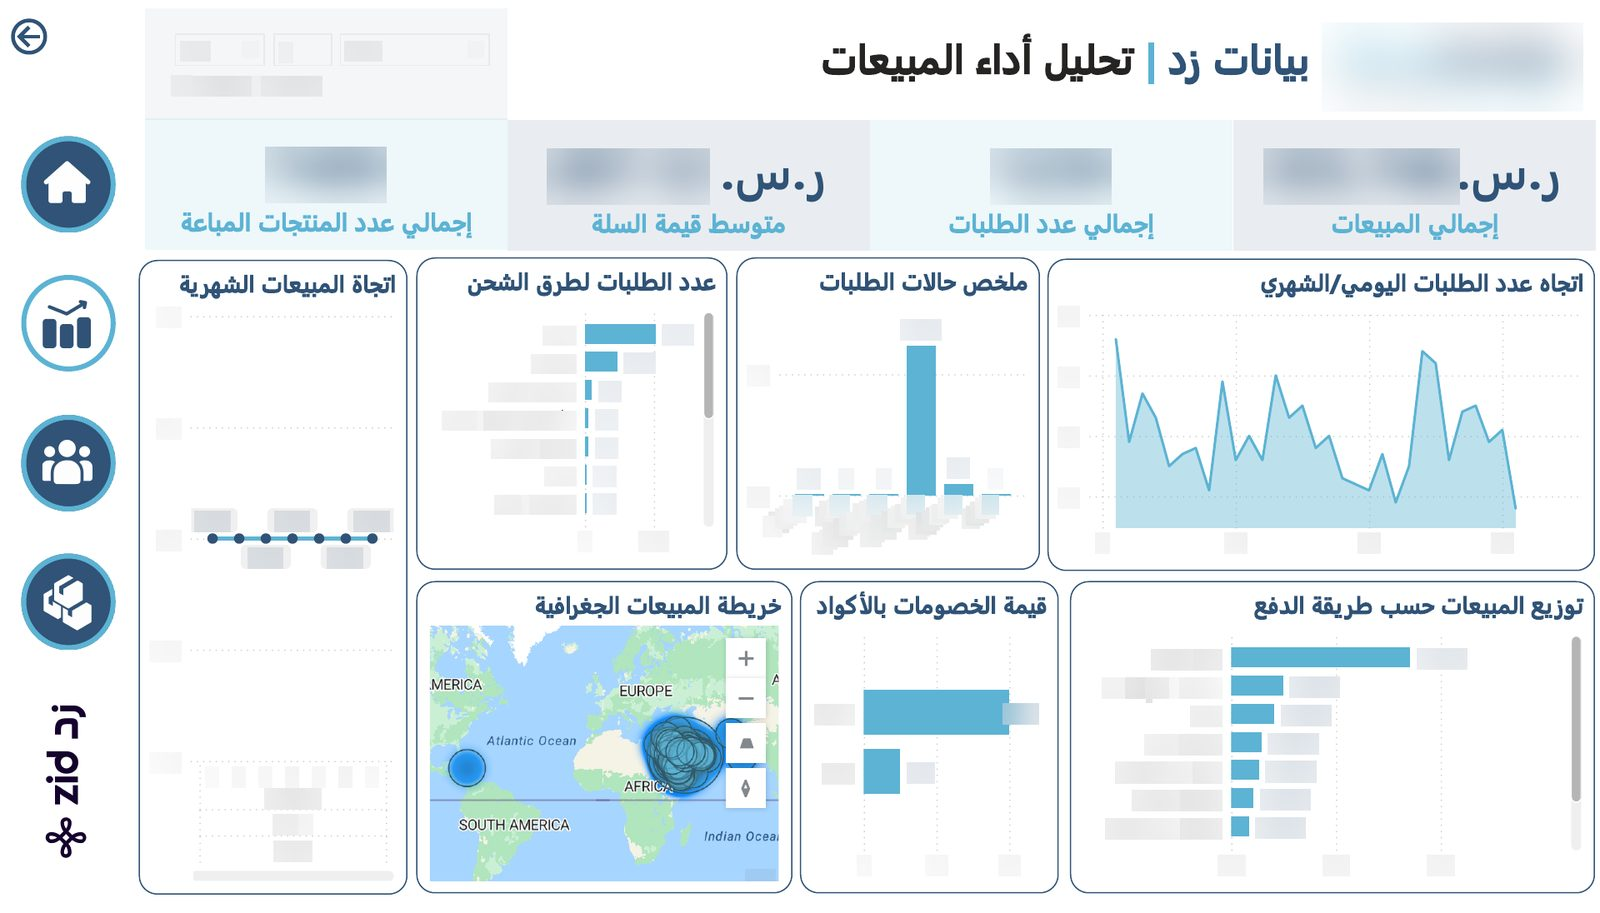

Layout of this report page (visuals, bound fields, positions):
{"tool":"powerbi","page":{"name":"بيانات زد | تحليل أداء المبيعات","canvas":[1280,720],"ordinal":5},"visuals":[{"type":"image","box":[1055,9,214,80],"z":0},{"type":"textbox","box":[640,14,413,64],"z":1000},{"type":"card","fields":{"Values":["zid_fact_orders.Zid Total Revenue"]},"box":[986.5,91.2,290.2,105.4],"z":2000},{"type":"card","fields":{"Values":["zid_fact_orders.Zid Total Orders"]},"box":[696.4,91.2,290.2,105.4],"z":3000},{"type":"card","fields":{"Values":["zid_fact_orders.Zid AOV"]},"box":[406.2,91.2,290.2,105.4],"z":4000},{"type":"areaChart","title":"اتجاه عدد الطلبات اليومي/الشهري","fields":{"Y":["zid_fact_orders.Zid Total Orders"],"Category":["zid_fact_orders.created_at.Variation.Date Hierarchy.Year","zid_fact_orders.created_at.Variation.Date Hierarchy.Quarter","zid_fact_orders.created_at.Variation.Date Hierarchy.Month","zid_fact_orders.created_at.Variation.Date Hierarchy.Day"]},"box":[838.2,201.8,438.2,250],"z":5000},{"type":"clusteredBarChart","title":"توزيع المبيعات حسب طريقة الدفع","fields":{"Category":["zid_fact_orders.payment_method"],"Y":["zid_fact_orders.Zid Total Revenue"]},"box":[856,460,420,250],"z":6000},{"type":"azureMap","title":"خريطة المبيعات الجغرافية","fields":{"Category":["zid_fact_order_shipping.city"],"Size":["zid_fact_orders.Zid Total Revenue"]},"box":[332.7,460,300.9,250],"z":7000},{"type":"clusteredColumnChart","title":"ملخص حالات الطلبات","fields":{"Category":["zid_fact_orders.status"],"Y":["zid_fact_orders.Zid Total Orders"]},"box":[589,201,243,250],"z":8000},{"type":"barChart","title":"قيمة الخصومات بالأكواد","fields":{"Category":["zid_dim_coupons.code"],"Y":["Sum(zid_dim_coupons.discount_value)"]},"box":[640,460,207.3,250],"z":9000},{"type":"card","fields":{"Values":["zid_fact_order_items.Zid Total Units Sold"]},"box":[116.1,90,290.2,105.4],"z":10000},{"type":"lineChart","title":"اتجاة المبيعات الشهرية","fields":{"Y":["zid_fact_orders.Zid Total Revenue"],"Category":["zid_fact_orders.created_at.Variation.Date Hierarchy.Year","zid_fact_orders.created_at.Variation.Date Hierarchy.Quarter","zid_fact_orders.created_at.Variation.Date Hierarchy.Month","zid_fact_orders.created_at.Variation.Date Hierarchy.Day"]},"box":[111.2,202.5,215,507.5],"z":11000},{"type":"shape","box":[16.7,103.7,75.6,77.3],"z":12000},{"type":"shape","box":[16.7,215.2,75.6,77.3],"z":13000},{"type":"shape","box":[16.7,326.8,75.6,77.3],"z":14000},{"type":"shape","box":[16.7,438.4,75.6,77.3],"z":15000},{"type":"image","box":[12.3,529.7,84.3,181],"z":16000},{"type":"image","box":[27.2,114.2,53.6,53.6],"z":17000},{"type":"image","box":[27.2,227.5,53.6,52.7],"z":18000},{"type":"image","box":[29,340,50.1,50.1],"z":19000},{"type":"image","box":[25.7,443.6,56.4,67.1],"z":20000},{"type":"actionButton","box":[4.3,0,38.6,48.6],"z":21000},{"type":"slicer","fields":{"Values":["zid_fact_orders.created_at"]},"box":[116.1,2.4,290.2,88.8],"z":22000},{"type":"clusteredBarChart","title":"عدد الطلبات لطرق الشحن","fields":{"Y":["zid_fact_orders.Zid Total Orders"],"Category":["zid_dim_shipping_methods.name"]},"box":[333,201,249,250],"z":23000}]}

Visuals, with their boxes on the page's 1280x720 design canvas (x1, y1, x2, y2). These are canvas units, not pixel positions in the 1600x913 screenshot, which may show the page scaled, cropped or inside an application window:
image: BBox(1055, 9, 1269, 89)
textbox: BBox(640, 14, 1053, 78)
card - zid_fact_orders.Zid Total Revenue: BBox(986, 91, 1277, 197)
card - zid_fact_orders.Zid Total Orders: BBox(696, 91, 987, 197)
card - zid_fact_orders.Zid AOV: BBox(406, 91, 696, 197)
"اتجاه عدد الطلبات اليومي/الشهري" areaChart: BBox(838, 202, 1276, 452)
"توزيع المبيعات حسب طريقة الدفع" clusteredBarChart: BBox(856, 460, 1276, 710)
"خريطة المبيعات الجغرافية" azureMap: BBox(333, 460, 634, 710)
"ملخص حالات الطلبات" clusteredColumnChart: BBox(589, 201, 832, 451)
"قيمة الخصومات بالأكواد" barChart: BBox(640, 460, 847, 710)
card - zid_fact_order_items.Zid Total Units Sold: BBox(116, 90, 406, 195)
"اتجاة المبيعات الشهرية" lineChart: BBox(111, 202, 326, 710)
shape: BBox(17, 104, 92, 181)
shape: BBox(17, 215, 92, 292)
shape: BBox(17, 327, 92, 404)
shape: BBox(17, 438, 92, 516)
image: BBox(12, 530, 97, 711)
image: BBox(27, 114, 81, 168)
image: BBox(27, 228, 81, 280)
image: BBox(29, 340, 79, 390)
image: BBox(26, 444, 82, 511)
actionButton: BBox(4, 0, 43, 49)
slicer - zid_fact_orders.created_at: BBox(116, 2, 406, 91)
"عدد الطلبات لطرق الشحن" clusteredBarChart: BBox(333, 201, 582, 451)
